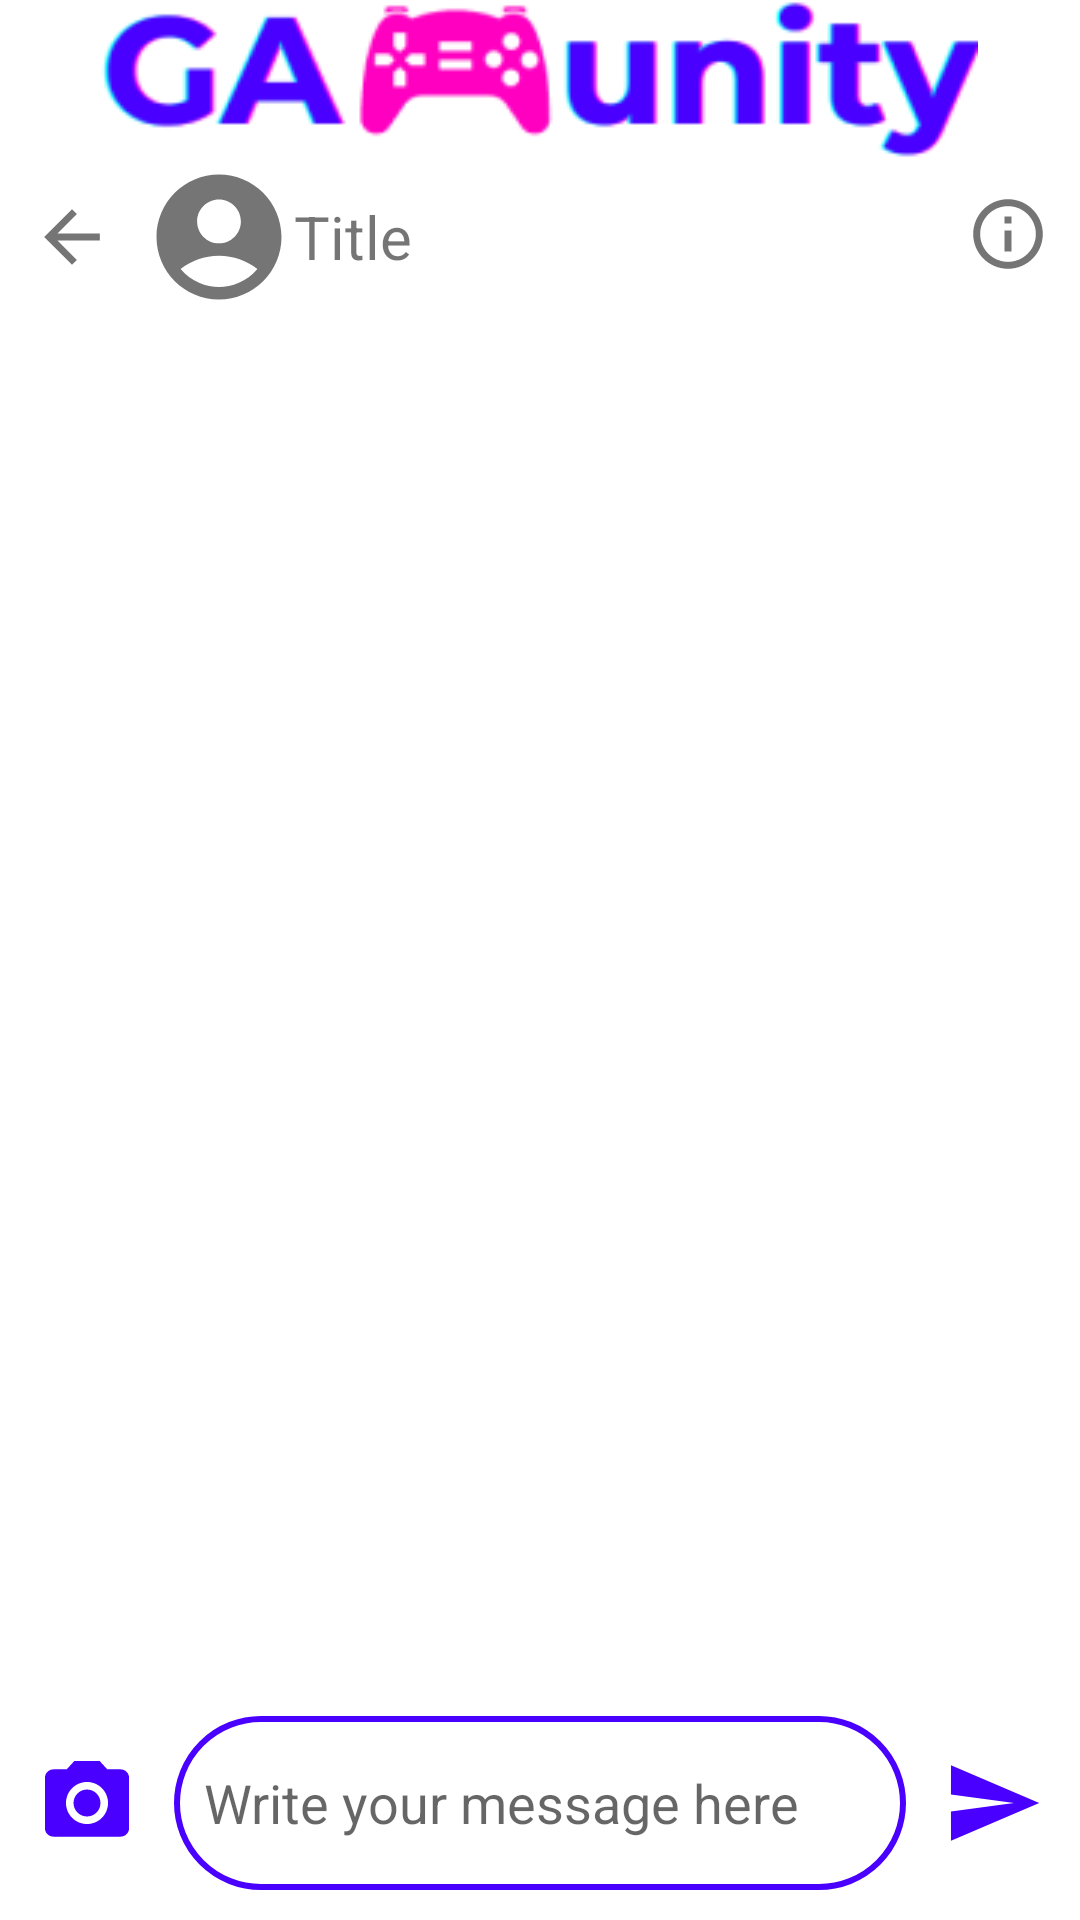

Icons on this 1080px×1920px Android screen, each with the point to tap as (x=x, y=y):
account base: (x=219, y=237)
camera chat: (x=87, y=1799)
send: (x=995, y=1803)
